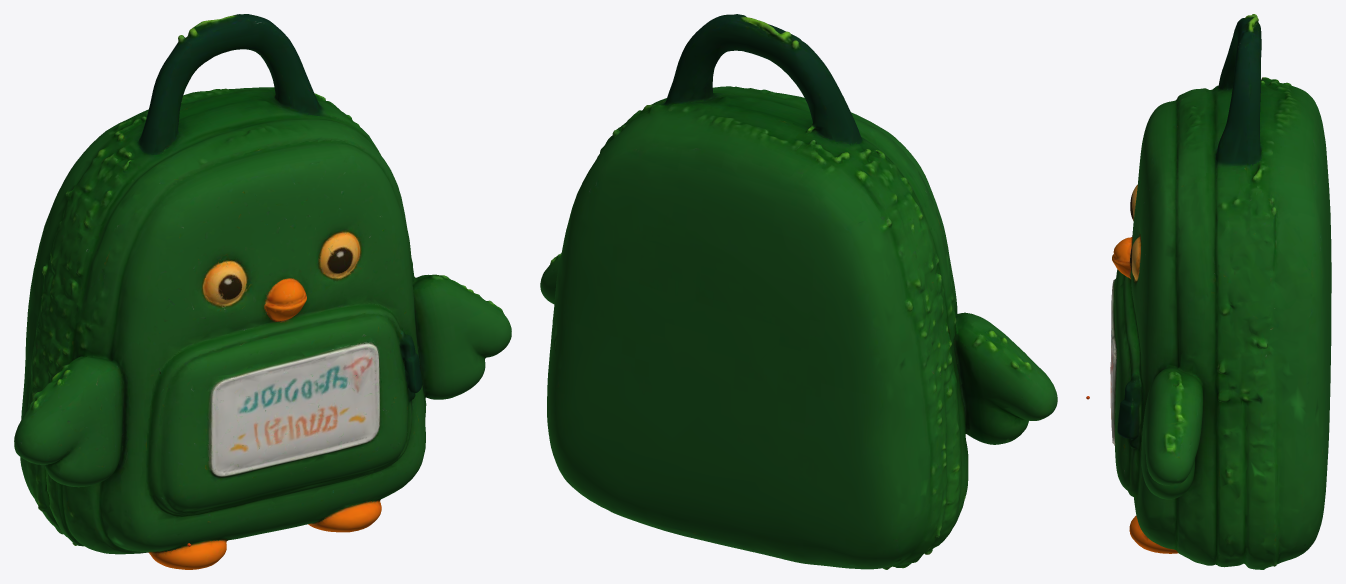
Rendered from bagu.glb.
3 views of the same model, side by side, from view 1: azimuth 30°, elevation 25°; view 2: azimuth 150°, elevation 25°; view 3: azimuth 270°, elevation 25° (orthographic). The views are drawn at different scales.
Visible parts, largest first — view 1: geometry_0; view 2: geometry_0; view 3: geometry_0.
Part boxes in pixels (left/top/right/bottom): geometry_0: left=14, top=14, right=511, bottom=569; geometry_0: left=540, top=14, right=1057, bottom=569; geometry_0: left=1086, top=14, right=1331, bottom=569.
Size of the model in its own units: 1 by 0.9661 by 0.4413.
1 material, 1 textured.
